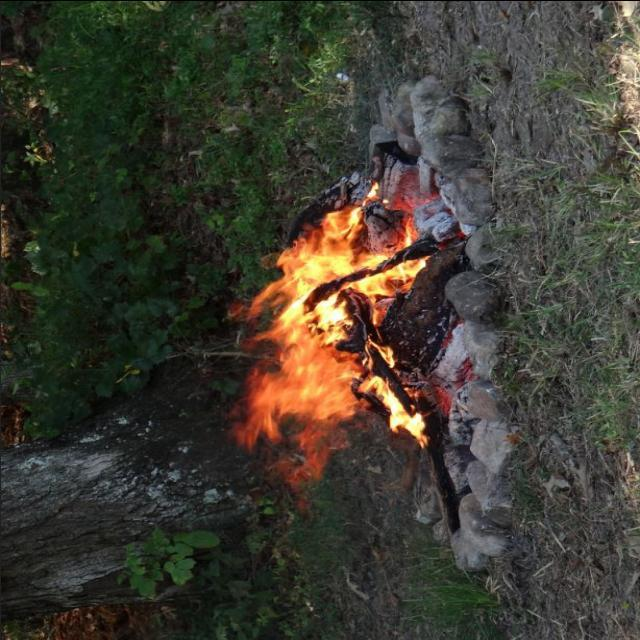Fire: (230, 194, 436, 511)
